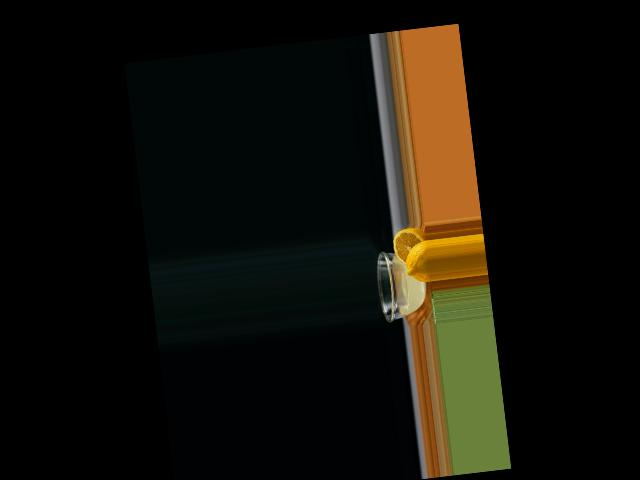lemon: (391, 228, 432, 285)
